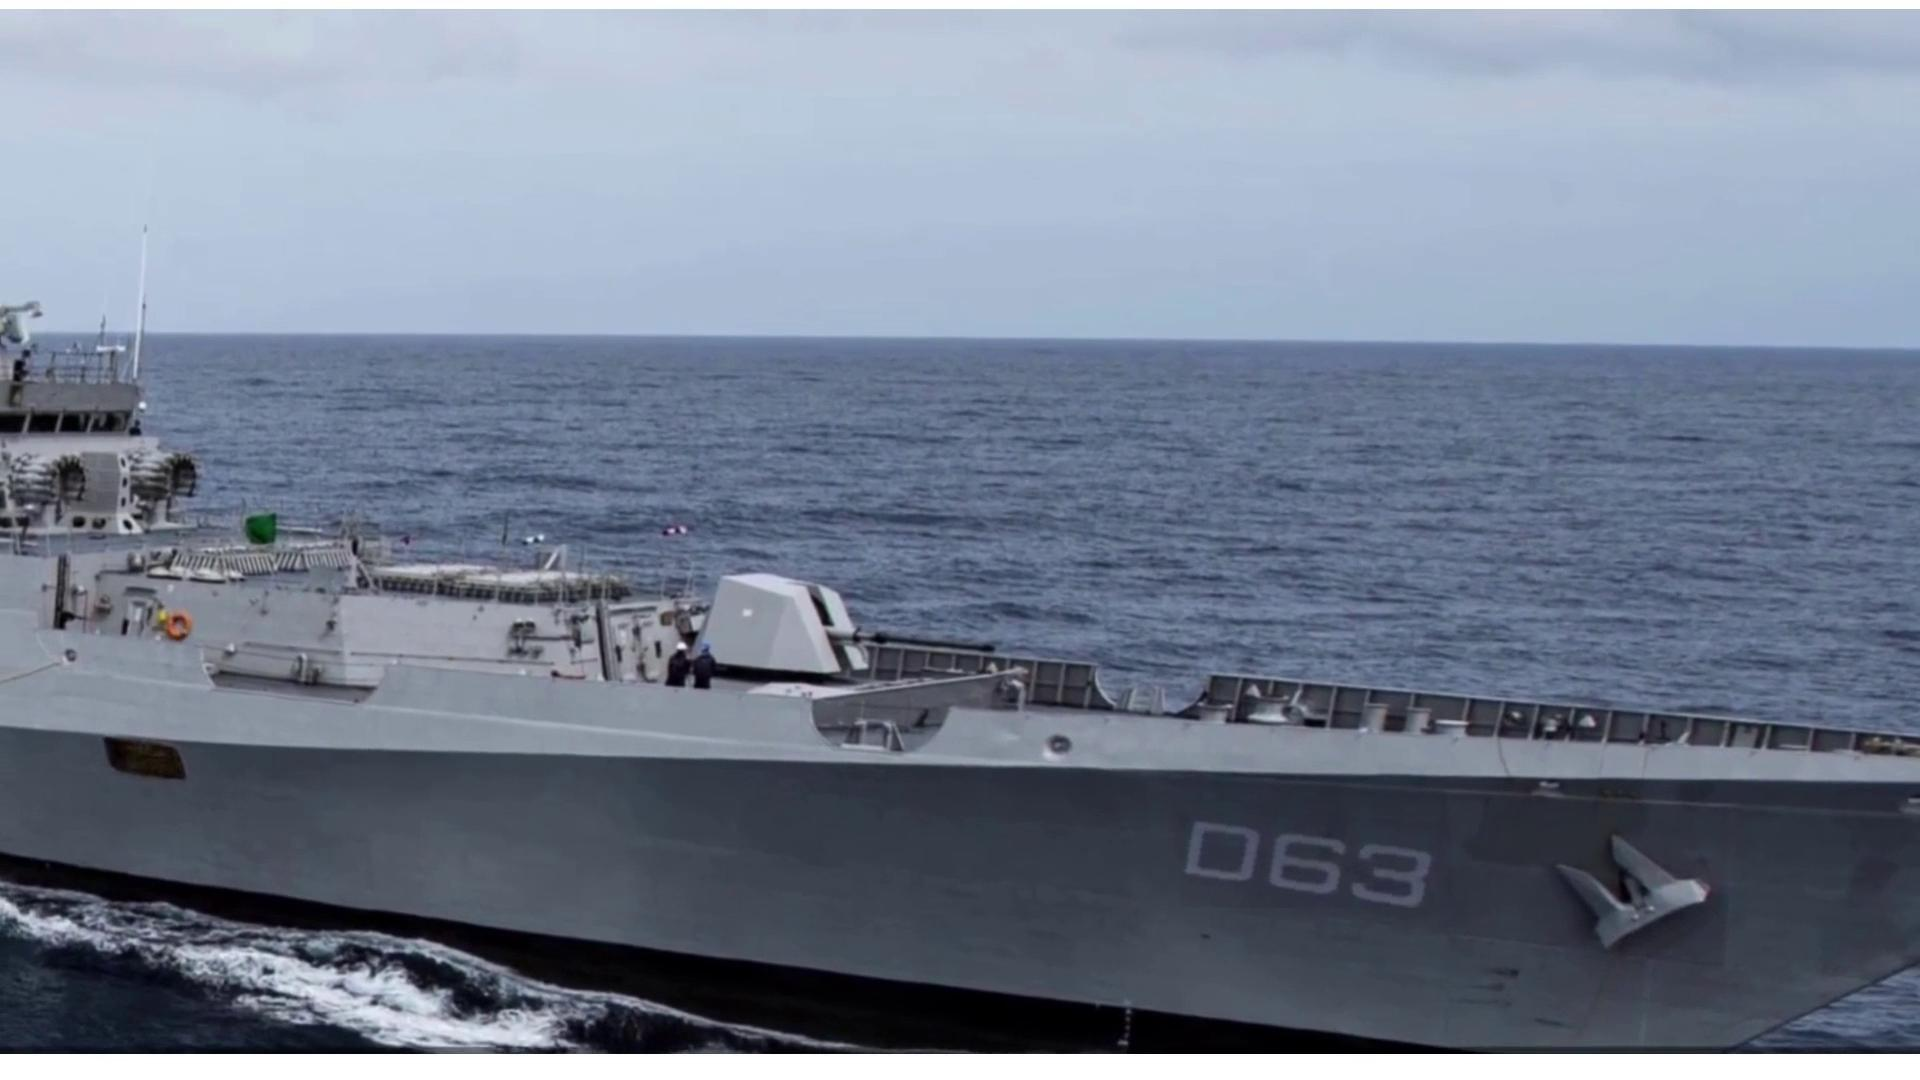OCR: (1180, 807, 1445, 909)
